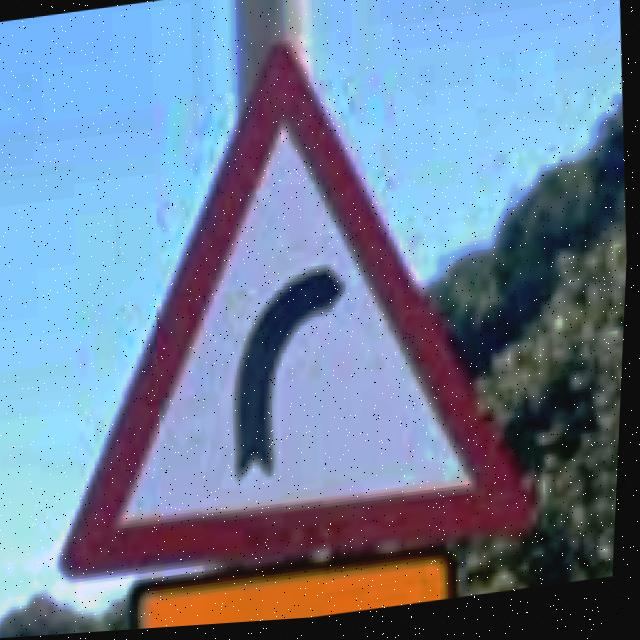rightbend: (63, 45, 537, 575)
